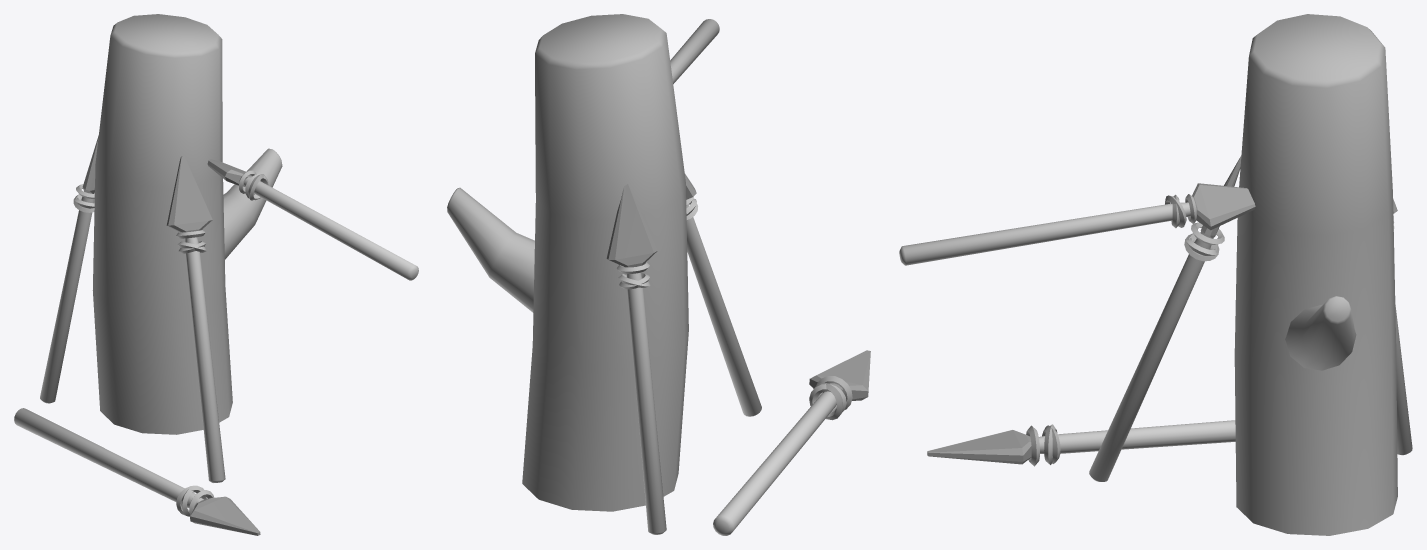
The model's file is WarriorTrainer_lvl1.fbx.
3 renders of one model, left to right at view 1: azimuth 30°, elevation 25°; view 2: azimuth 150°, elevation 25°; view 3: azimuth 270°, elevation 25°, orthographic. The views are drawn at different scales.
Visible parts, largest first — view 1: Lvl1_WarriorTrainer; view 2: Lvl1_WarriorTrainer; view 3: Lvl1_WarriorTrainer.
Part boxes in pixels (bbox=[...]): Lvl1_WarriorTrainer: bbox=[14, 14, 418, 535]; Lvl1_WarriorTrainer: bbox=[447, 14, 870, 535]; Lvl1_WarriorTrainer: bbox=[899, 14, 1412, 535].
Bounding box in the file's own units: 1.01 × 1.48 × 1.46.
